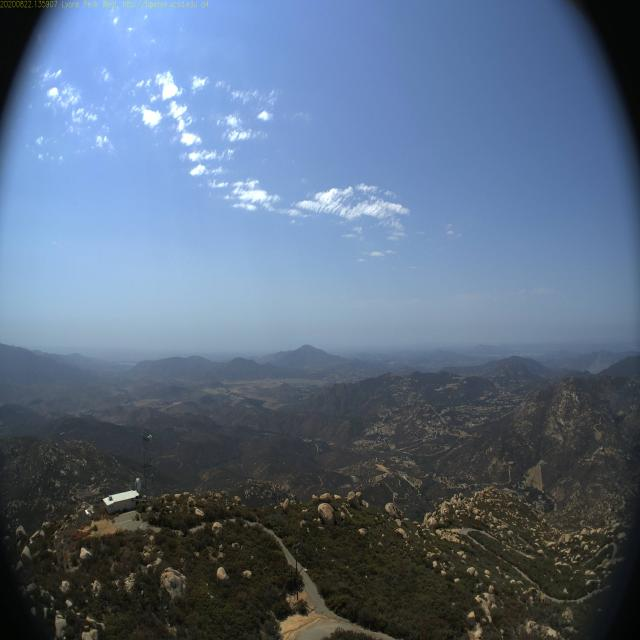smoke: (587, 349, 612, 377)
